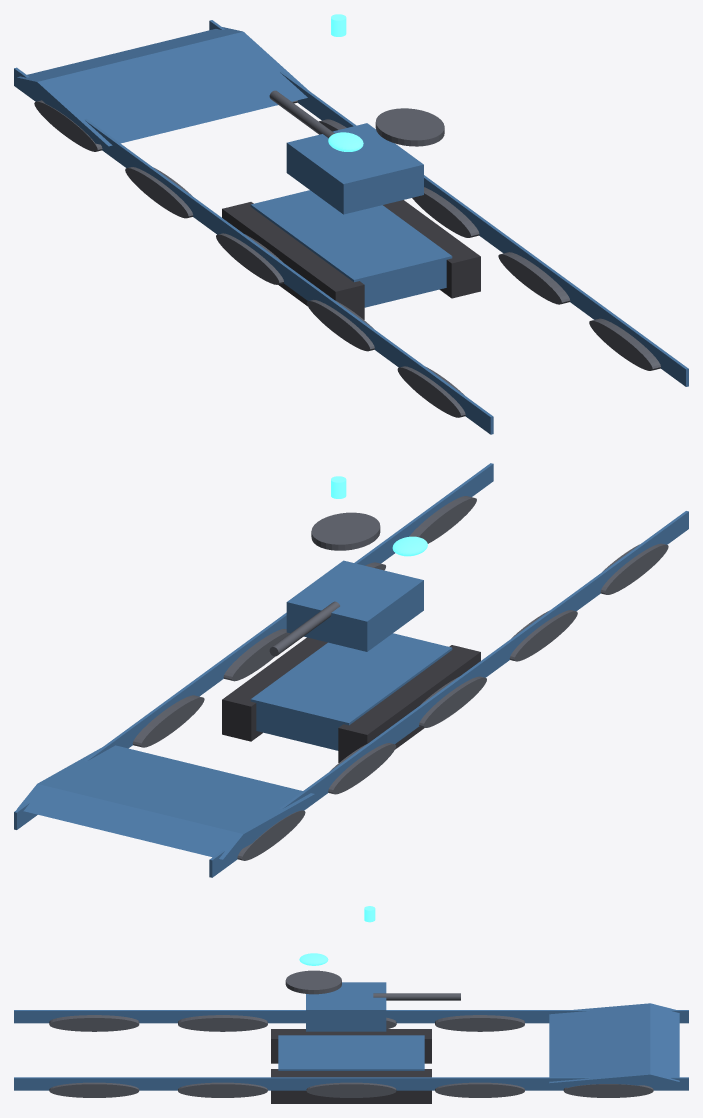
The model's file is AL_MCV_MobileNode_LOD2.glb.
3 renders of one model, top to bottom at view 1: azimuth 30°, elevation 25°; view 2: azimuth 150°, elevation 25°; view 3: azimuth 270°, elevation 25°, orthographic. The views are drawn at different scales.
Parts seen in each view (by area): view 1: Cube.001, Cube, Cube.006, Cube.003, Cube.005, Cube.002, Cube.004, Cylinder.010, Cylinder.006, Cylinder.005, Cylinder.007, Cylinder.003 (+5 smaller); view 2: Cube.001, Cube, Cube.006, Cube.003, Cube.005, Cube.002, Cube.004, Cylinder.010, Cylinder.008, Cylinder, Cylinder.003, Cylinder.001 (+5 smaller); view 3: Cube.001, Cube.005, Cube, Cube.003, Cube.006, Cube.004, Cube.002, Cylinder, Cylinder.001, Cylinder.003, Cylinder.005, Cylinder.007 (+5 smaller).
Boxes of the visible parts, box(x1,y1,x2,y2) form: Cube.001: box(17, 27, 307, 146); Cube: box(250, 190, 452, 307); Cube.006: box(286, 123, 423, 214); Cube.003: box(14, 67, 493, 434); Cube.005: box(209, 20, 688, 386); Cube.002: box(222, 202, 364, 319); Cube.004: box(383, 200, 480, 298); Cylinder.010: box(375, 108, 444, 146); Cylinder.006: box(498, 252, 570, 304); Cylinder.005: box(589, 318, 660, 370); Cylinder.007: box(412, 187, 479, 237); Cylinder.003: box(125, 167, 193, 218); Cube.001: box(16, 745, 314, 859); Cube: box(250, 633, 452, 750); Cube.006: box(286, 560, 423, 651); Cube.003: box(209, 511, 688, 877); Cube.005: box(14, 463, 493, 829); Cube.002: box(338, 645, 480, 762); Cube.004: box(222, 637, 327, 741); Cylinder.010: box(311, 512, 380, 550); Cylinder.008: box(132, 695, 204, 747); Cylinder: box(600, 543, 668, 594); Cylinder.003: box(328, 743, 396, 794); Cylinder.001: box(509, 610, 577, 661); Cube.001: box(549, 1003, 679, 1087); Cube.005: box(14, 1077, 688, 1090); Cube: box(278, 1035, 424, 1070); Cube.003: box(14, 1010, 688, 1023); Cube.006: box(306, 982, 386, 1031); Cube.004: box(271, 1069, 431, 1103); Cube.002: box(271, 1029, 431, 1063); Cylinder: box(49, 1015, 139, 1031); Cylinder.001: box(178, 1015, 267, 1031); Cylinder.003: box(435, 1015, 524, 1031); Cylinder.005: box(49, 1082, 139, 1097); Cylinder.007: box(306, 1082, 396, 1097).
Size of what is drawn, in the model's own units: 4.65 by 5.15 by 18.48.
